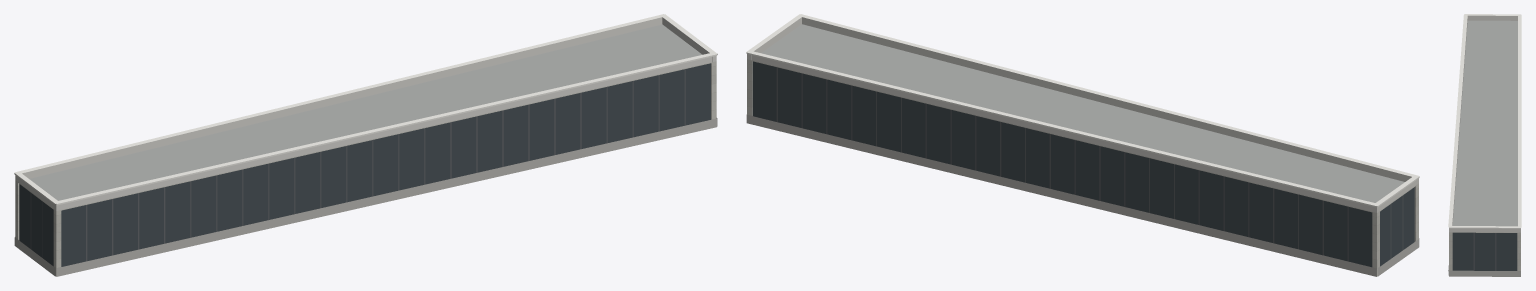
3 views of the same model, side by side, from view 1: azimuth 30°, elevation 25°; view 2: azimuth 150°, elevation 25°; view 3: azimuth 270°, elevation 25° (orthographic). The views are drawn at different scales.
Parts seen in each view (by area): view 1: libertasBLink__glass, libertasBLink__roof, libertasBLink__parapet, libertasBLink__base, libertasBLink__trim, libertasBLink__frame, libertasBLink__wall; view 2: libertasBLink__glass, libertasBLink__roof, libertasBLink__parapet, libertasBLink__base, libertasBLink__trim, libertasBLink__frame, libertasBLink__wall; view 3: libertasBLink__roof, libertasBLink__glass, libertasBLink__trim, libertasBLink__parapet, libertasBLink__base, libertasBLink__wall, libertasBLink__frame.
Part boxes in pixels (<box>): libertasBLink__glass: <box>19,63,710,266</box>; libertasBLink__roof: <box>29,24,702,200</box>; libertasBLink__parapet: <box>15,17,716,210</box>; libertasBLink__base: <box>14,118,717,276</box>; libertasBLink__trim: <box>14,14,717,205</box>; libertasBLink__frame: <box>30,69,685,261</box>; libertasBLink__wall: <box>15,61,716,276</box>; libertasBLink__glass: <box>752,61,1414,267</box>; libertasBLink__roof: <box>761,24,1404,202</box>; libertasBLink__parapet: <box>747,17,1418,212</box>; libertasBLink__base: <box>746,114,1419,276</box>; libertasBLink__trim: <box>746,14,1419,207</box>; libertasBLink__frame: <box>776,67,1403,261</box>; libertasBLink__wall: <box>747,59,1418,276</box>; libertasBLink__roof: <box>1452,20,1517,226</box>; libertasBLink__glass: <box>1452,232,1517,270</box>; libertasBLink__trim: <box>1448,14,1521,228</box>; libertasBLink__parapet: <box>1449,15,1520,232</box>; libertasBLink__base: <box>1448,265,1520,276</box>; libertasBLink__wall: <box>1449,232,1520,270</box>; libertasBLink__frame: <box>1473,232,1496,270</box>.
Bounding box in the file's own units: 46.7 × 5 × 6.78.
Materials: 7 (1 with a texture image).
